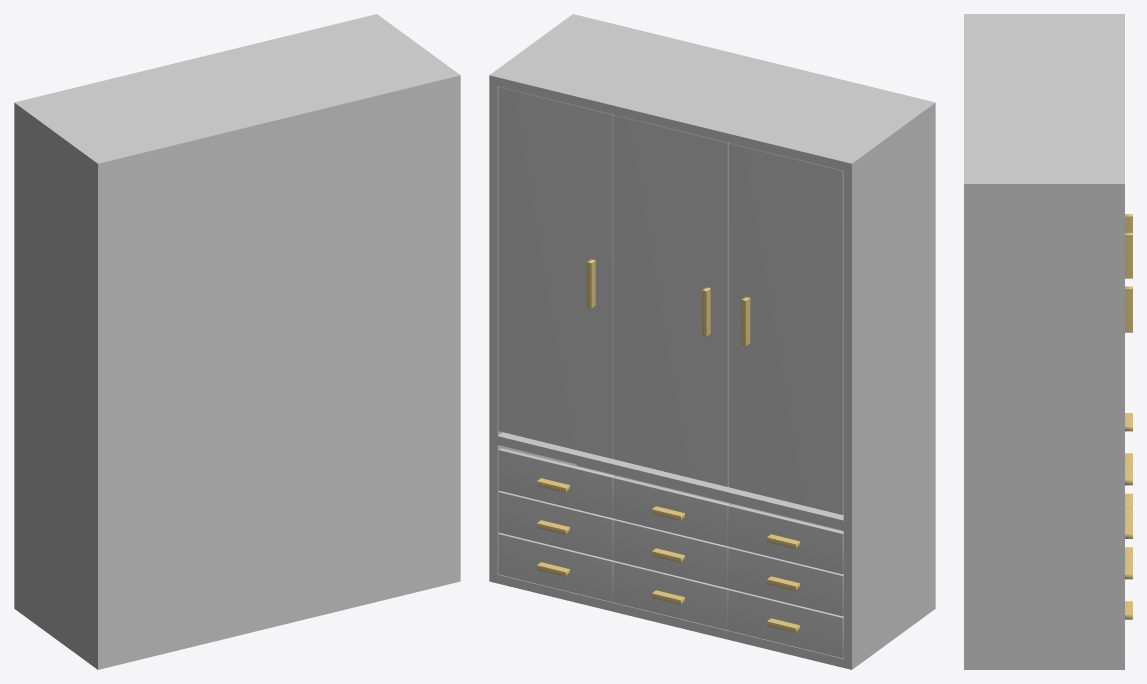
3 renders of one model, left to right at view 1: azimuth 30°, elevation 25°; view 2: azimuth 150°, elevation 25°; view 3: azimuth 270°, elevation 25°, orthographic. The views are drawn at different scales.
Parts seen in each view (by area): view 1: BackPanel, LeftPanel, TopPanel, RightPanel, BottomPanel; view 2: LeftPanel, Door_2, Door_1, Door_3, TopPanel, RightPanel, DividerPanel, Drawer_R3_C3, Drawer_R3_C2, Drawer_R3_C1, Drawer_R2_C1, Drawer_R1_C1 (+6 smaller); view 3: RightPanel, TopPanel, BackPanel, LeftPanel, DoorHandle_2, DoorHandle_3.
Part boxes in pixels (<box>): BackPanel: <box>102,74,452,667</box>; LeftPanel: <box>14,100,106,669</box>; TopPanel: <box>14,16,460,172</box>; RightPanel: <box>369,14,460,583</box>; BottomPanel: <box>19,573,460,668</box>; LeftPanel: <box>843,100,935,669</box>; Door_2: <box>613,114,729,486</box>; Door_1: <box>728,143,843,514</box>; Door_3: <box>498,86,613,458</box>; TopPanel: <box>491,19,933,171</box>; RightPanel: <box>489,14,580,583</box>; DividerPanel: <box>497,432,843,529</box>; Drawer_R3_C3: <box>498,447,616,518</box>; Drawer_R3_C2: <box>613,475,731,546</box>; Drawer_R3_C1: <box>728,503,843,574</box>; Drawer_R2_C1: <box>728,547,843,616</box>; Drawer_R1_C1: <box>728,589,843,658</box>; RightPanel: <box>964,180,1124,669</box>; TopPanel: <box>964,18,1124,192</box>; BackPanel: <box>964,18,973,179</box>; LeftPanel: <box>964,14,1124,17</box>; DoorHandle_2: <box>1125,232,1132,278</box>; DoorHandle_3: <box>1125,286,1132,332</box>.
Size of the model in its own units: 1.5 by 2 by 0.63.
